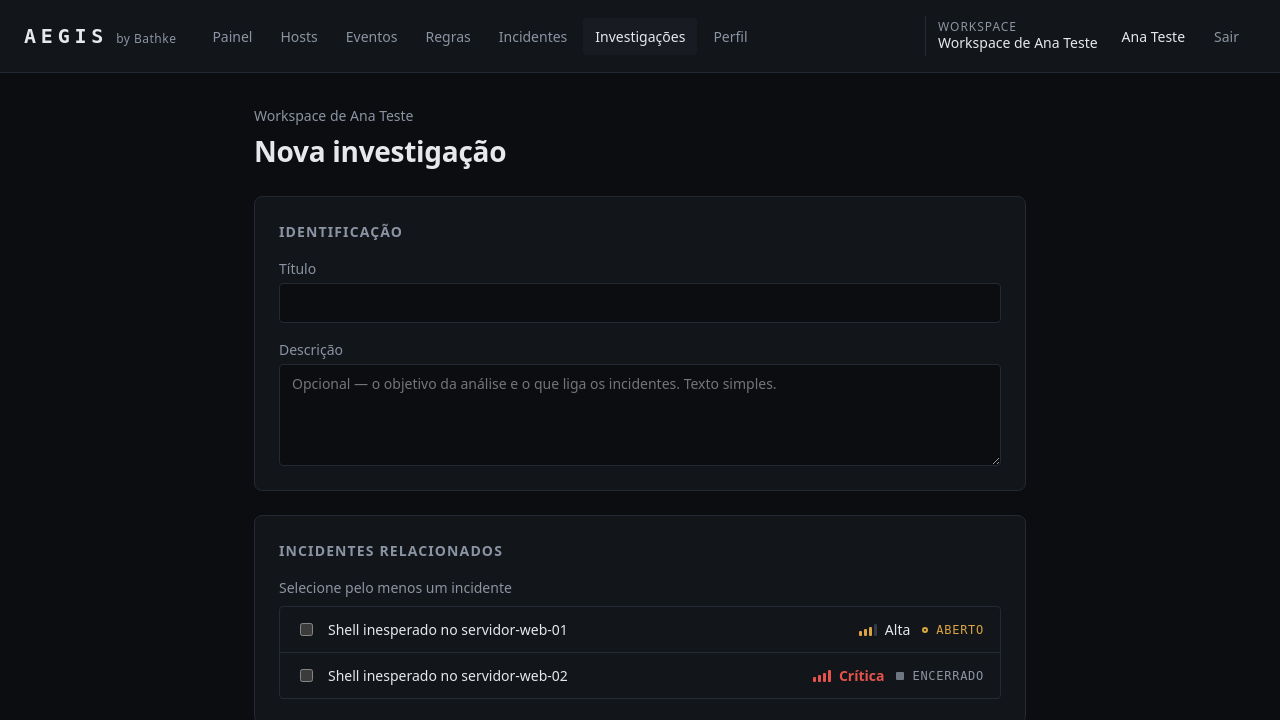
Test: create investigation (separate screen) › shows API relation errors on the incidents field
Type "Caso cruzado" into the field labelled "Título" at (640, 303), box [279, 283, 1001, 323]
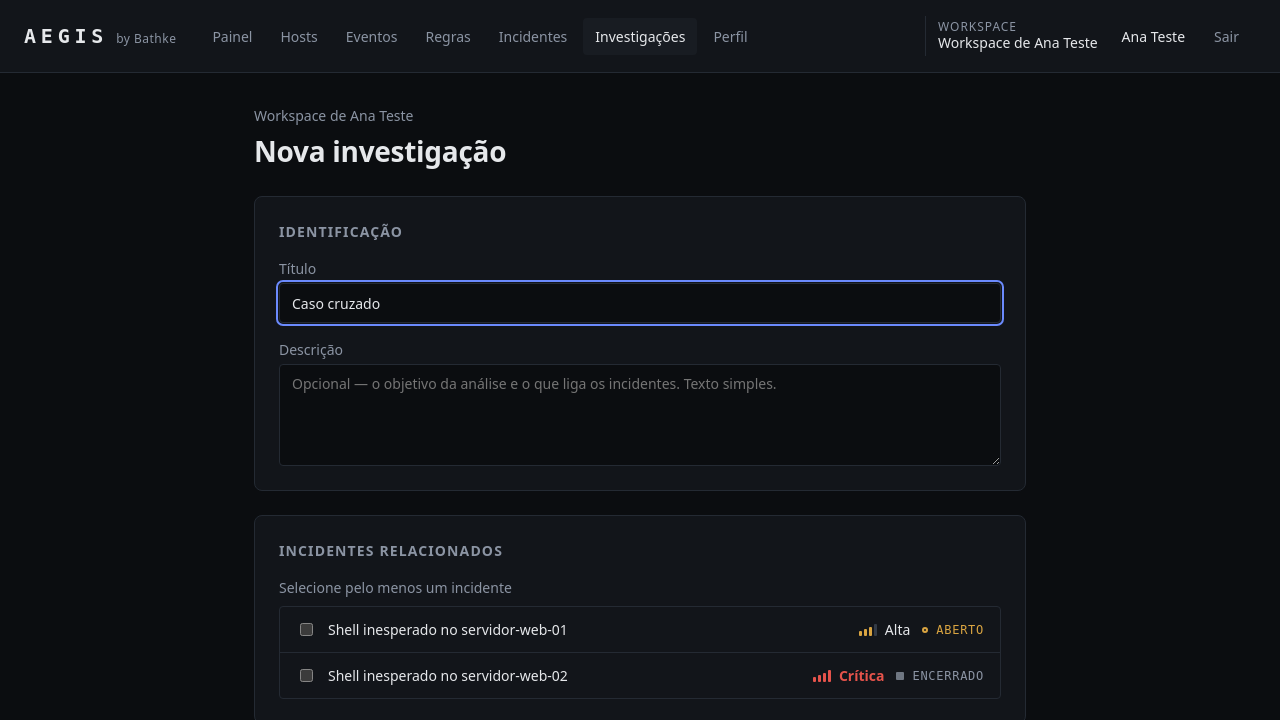
Click the checkbox labelled "Shell inesperado no servidor-web-01 Alta Aberto" at (306, 630), box [300, 623, 313, 636]
(page scrolled)
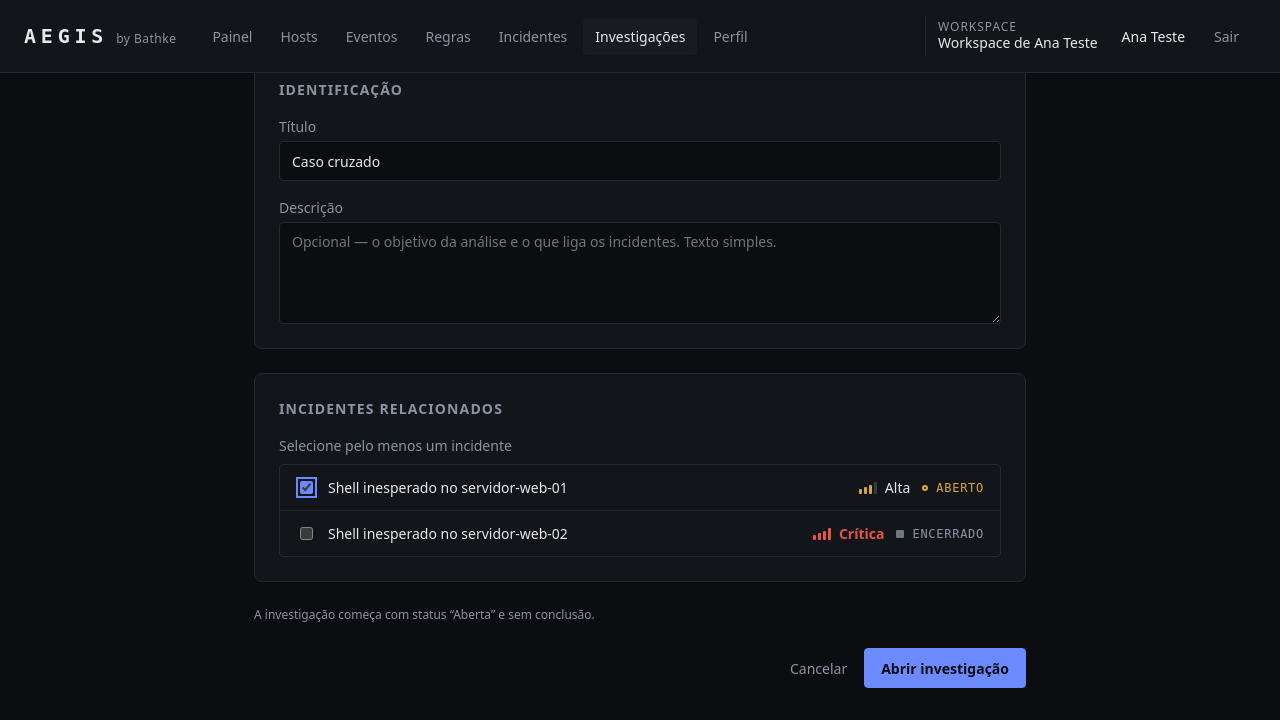
Click the button "Abrir investigação" at (945, 668), box [864, 648, 1026, 688]
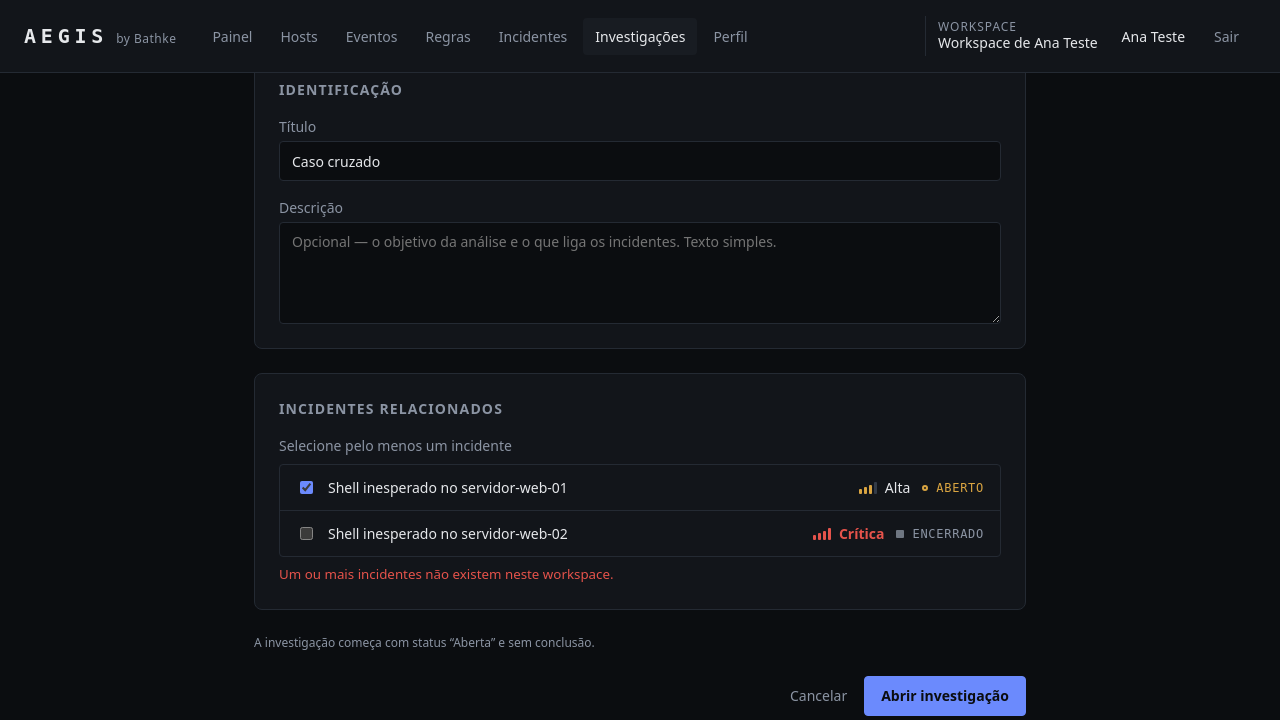
Expected: the text "Um ou mais incidentes não existem neste workspace." is shown, [279, 565, 614, 583]
